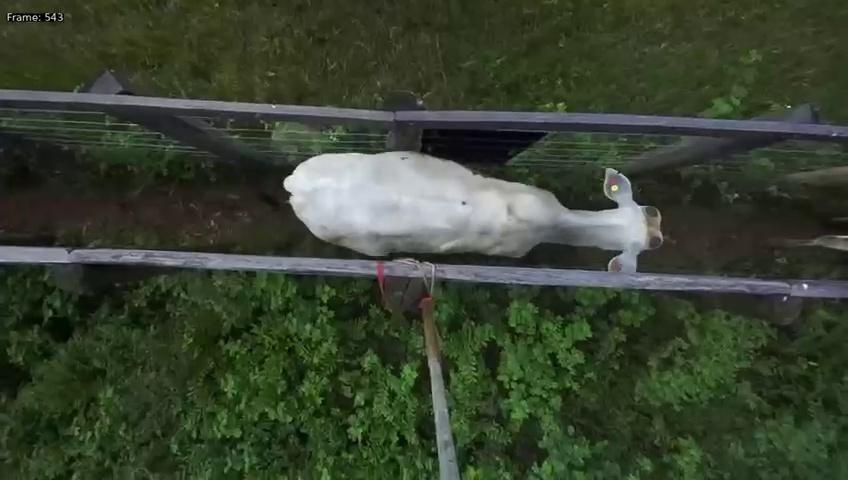cattle: (279, 138, 670, 282)
